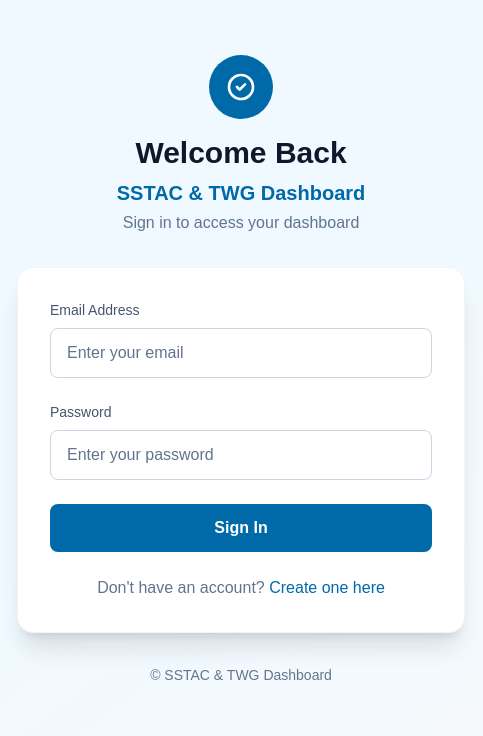
LoginForm Accessibility › B. announces error on failed login
Type "a11y-placeholder@example.test" into the field labelled "Email Address".
click(241, 353); type("a11y-placeholder@example.test")  # box x1=50 y1=328 x2=432 y2=378
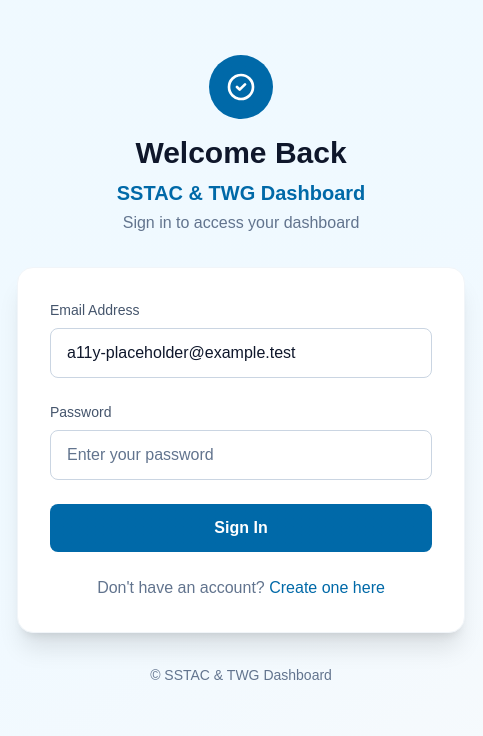
Type "not-a-secret-placeholder" into the password field labelled "Password".
click(241, 455); type("not-a-secret-placeholder")  # box x1=50 y1=430 x2=432 y2=480
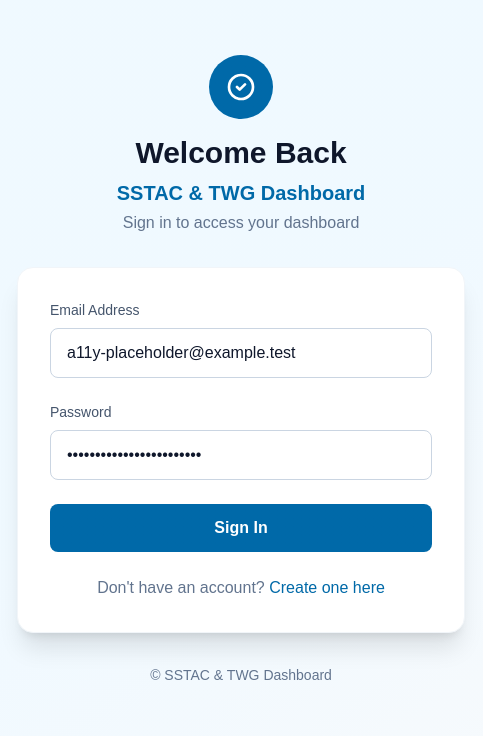
Click the button "Sign In".
click(241, 528)  # box x1=50 y1=504 x2=432 y2=552
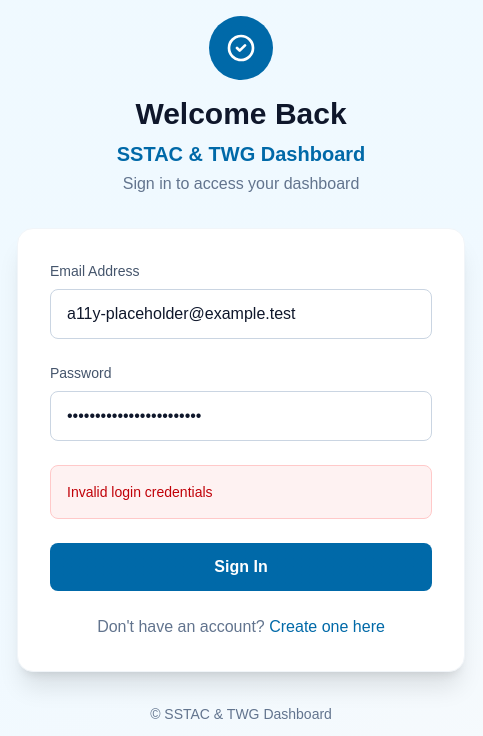
expect the message reads "Invalid login credentials": met, box x1=67 y1=484 x2=212 y2=500
